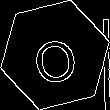O_N: (28, 25, 82, 85)
